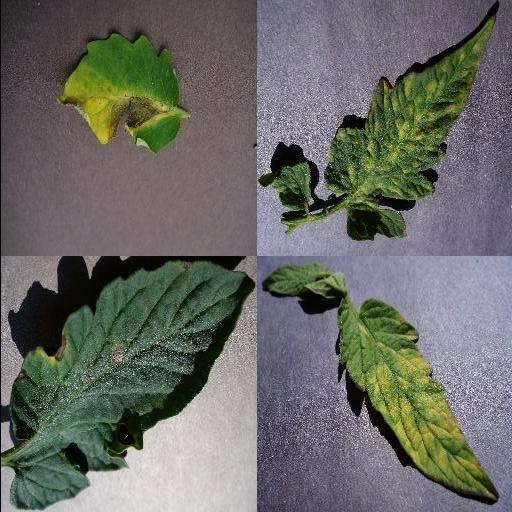Early Blight: (7, 262, 249, 512)
Late Blight: (57, 30, 181, 154)
Leaf Mold: (322, 14, 496, 242), (333, 301, 499, 499)
